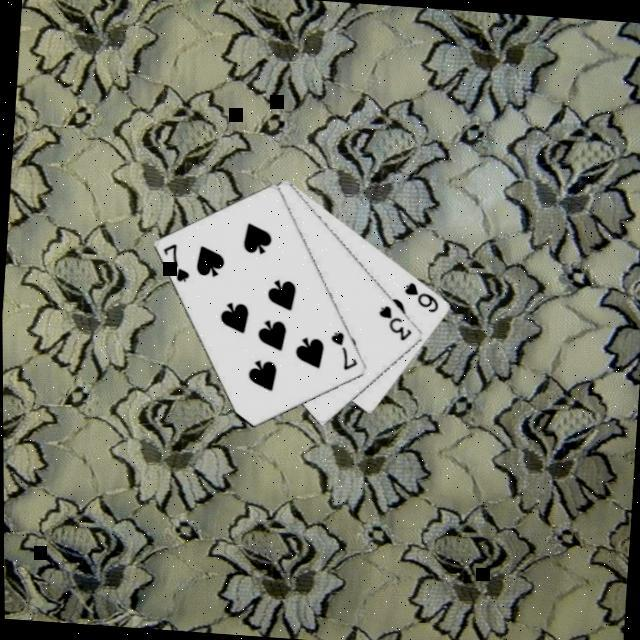3S: (372, 302, 415, 345)
6S: (399, 280, 442, 317)
7S: (324, 329, 361, 375), (156, 240, 193, 286)
